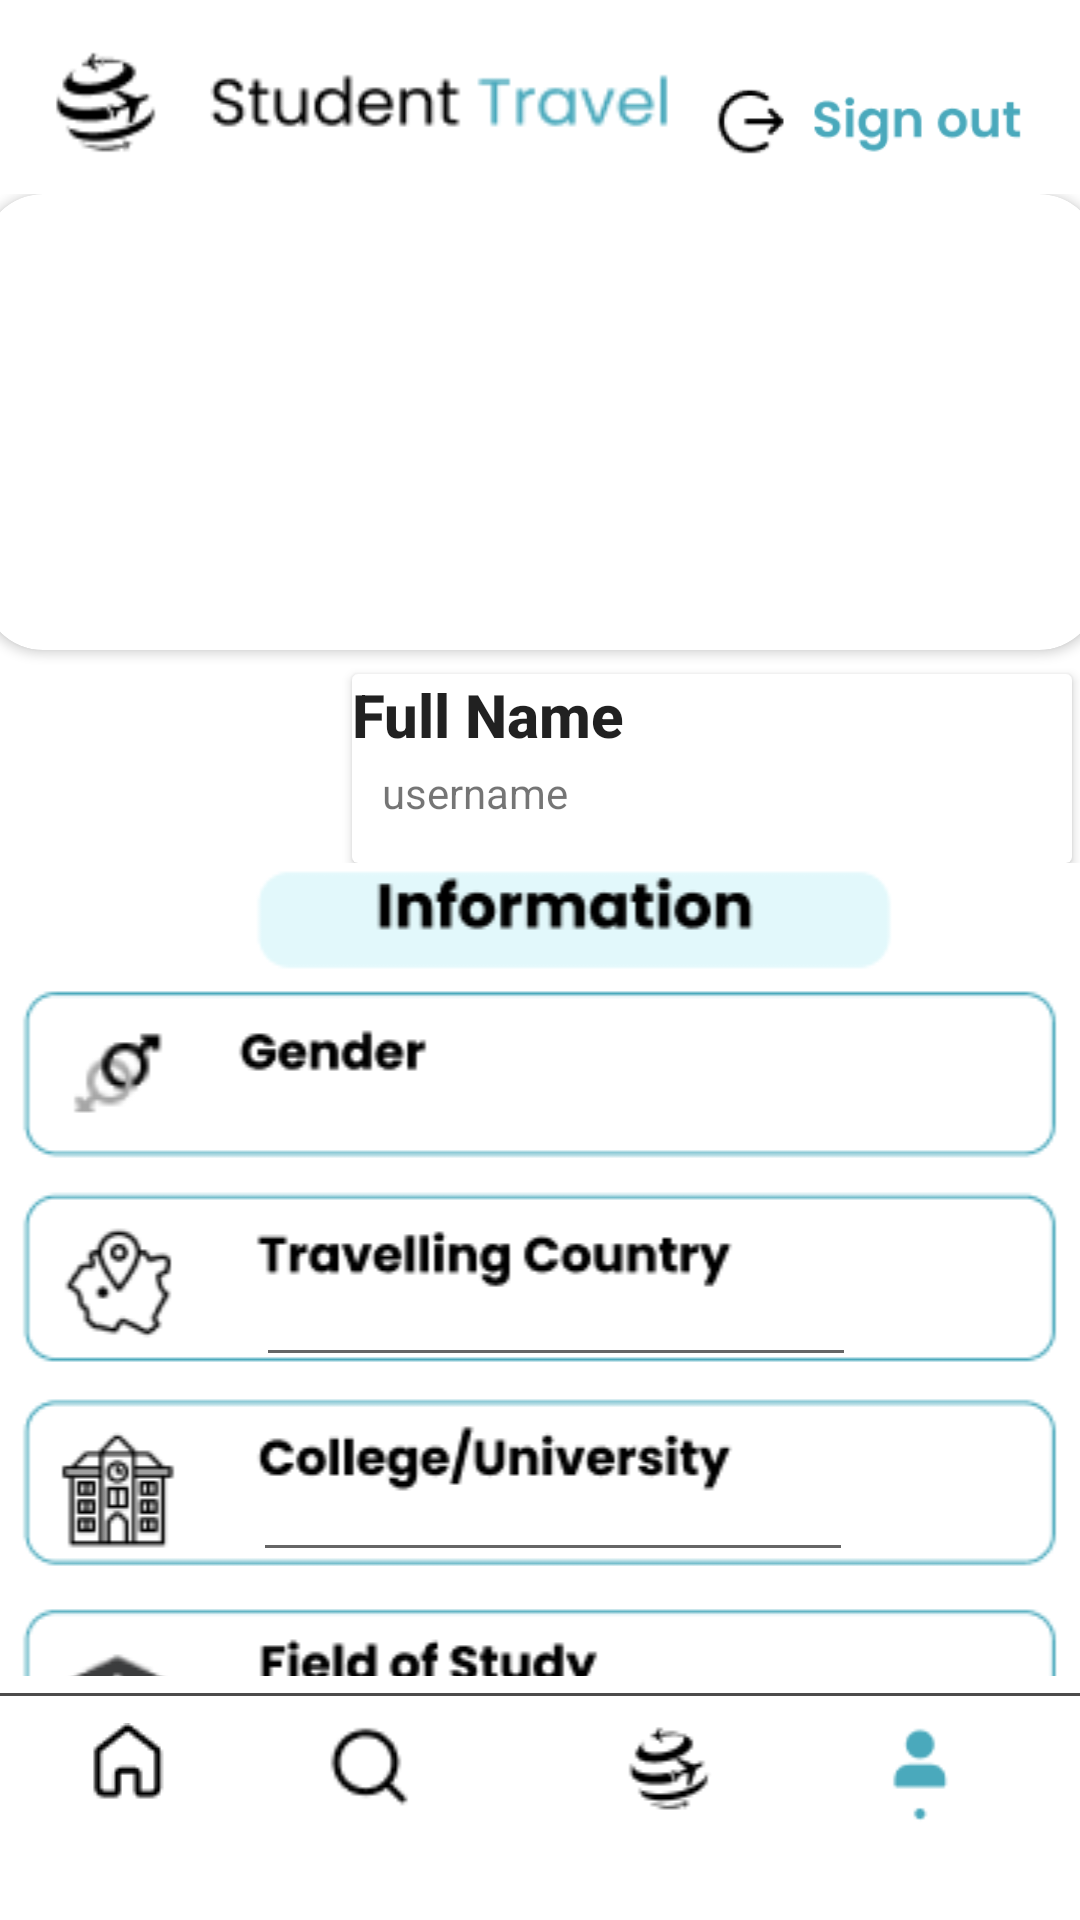

Where to tap for icons on this 1080w x 1920h app screen, as [x,y]:
home: [128,1761]
search: [369,1766]
travel: [669,1768]
